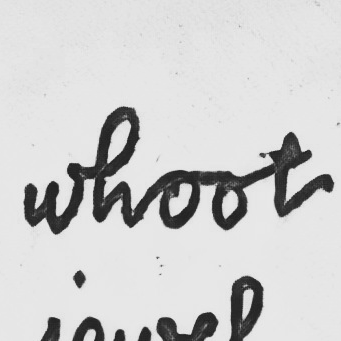h: (90, 104, 143, 230)
o: (156, 167, 204, 230), (209, 169, 250, 232)
t: (263, 127, 337, 222)
w: (20, 161, 87, 236)
